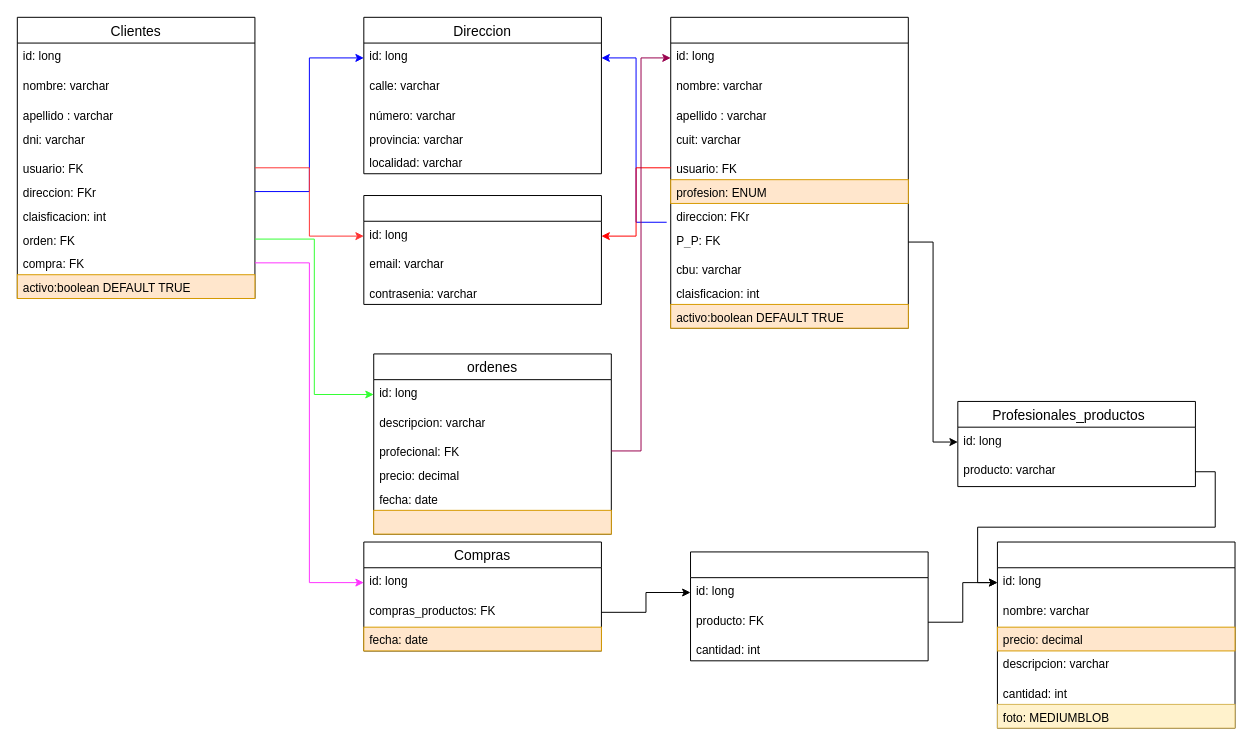
This 1252x748 diagram has some shape labels left out. Here are the shapes that lost their labels. From the top down, the box of each, then its label:
(670, 16, 908, 328): Profesionales
(363, 195, 601, 304): Usuarios
(373, 509, 611, 534): aprobada: boolean DEFAULT false
(690, 551, 928, 661): compras_productos
(996, 541, 1235, 728): productos
